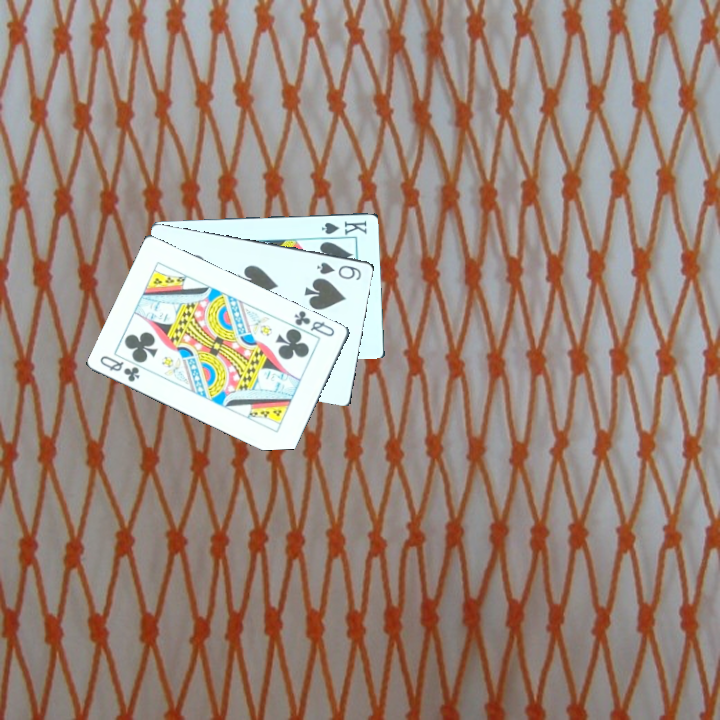6s: (313, 258, 364, 283)
Ks: (318, 217, 369, 237)
Qc: (284, 307, 337, 345), (96, 348, 151, 384)
